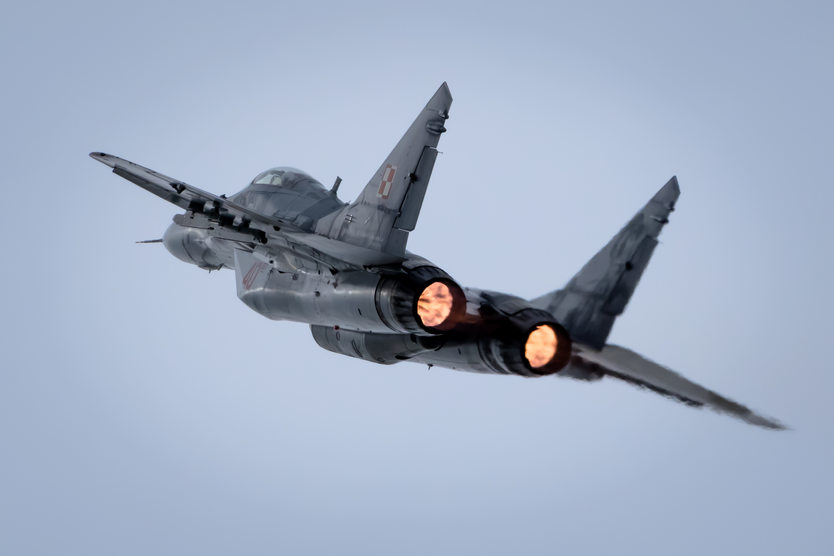Mig-29: (70, 76, 769, 448)
